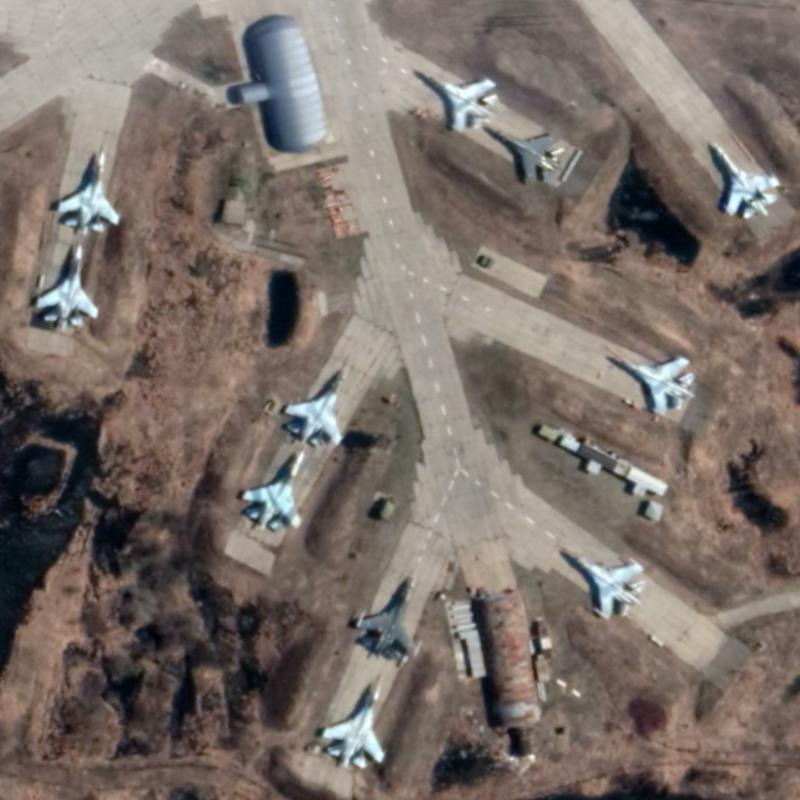A1: (349, 566, 425, 668), (318, 669, 386, 770), (704, 138, 781, 220), (279, 358, 346, 451), (53, 146, 121, 235), (238, 443, 304, 534), (33, 243, 100, 331), (562, 548, 644, 619), (614, 351, 696, 417), (486, 125, 566, 186), (421, 72, 499, 131)
